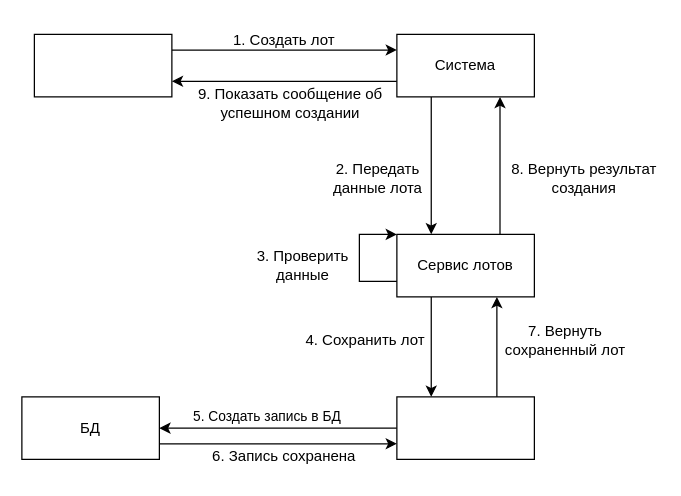
The diagram is 681 pixels wide and 496 high, and some of its shapes have lost their labels. The box of each missing label's shape, as (x1, y1, x2, y2) in pixels:
Модуль доступа к данным: (396, 396, 534, 459)
Партнер: (33, 33, 172, 97)
